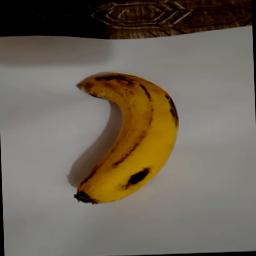Banana Unripe: (62, 61, 184, 210)
